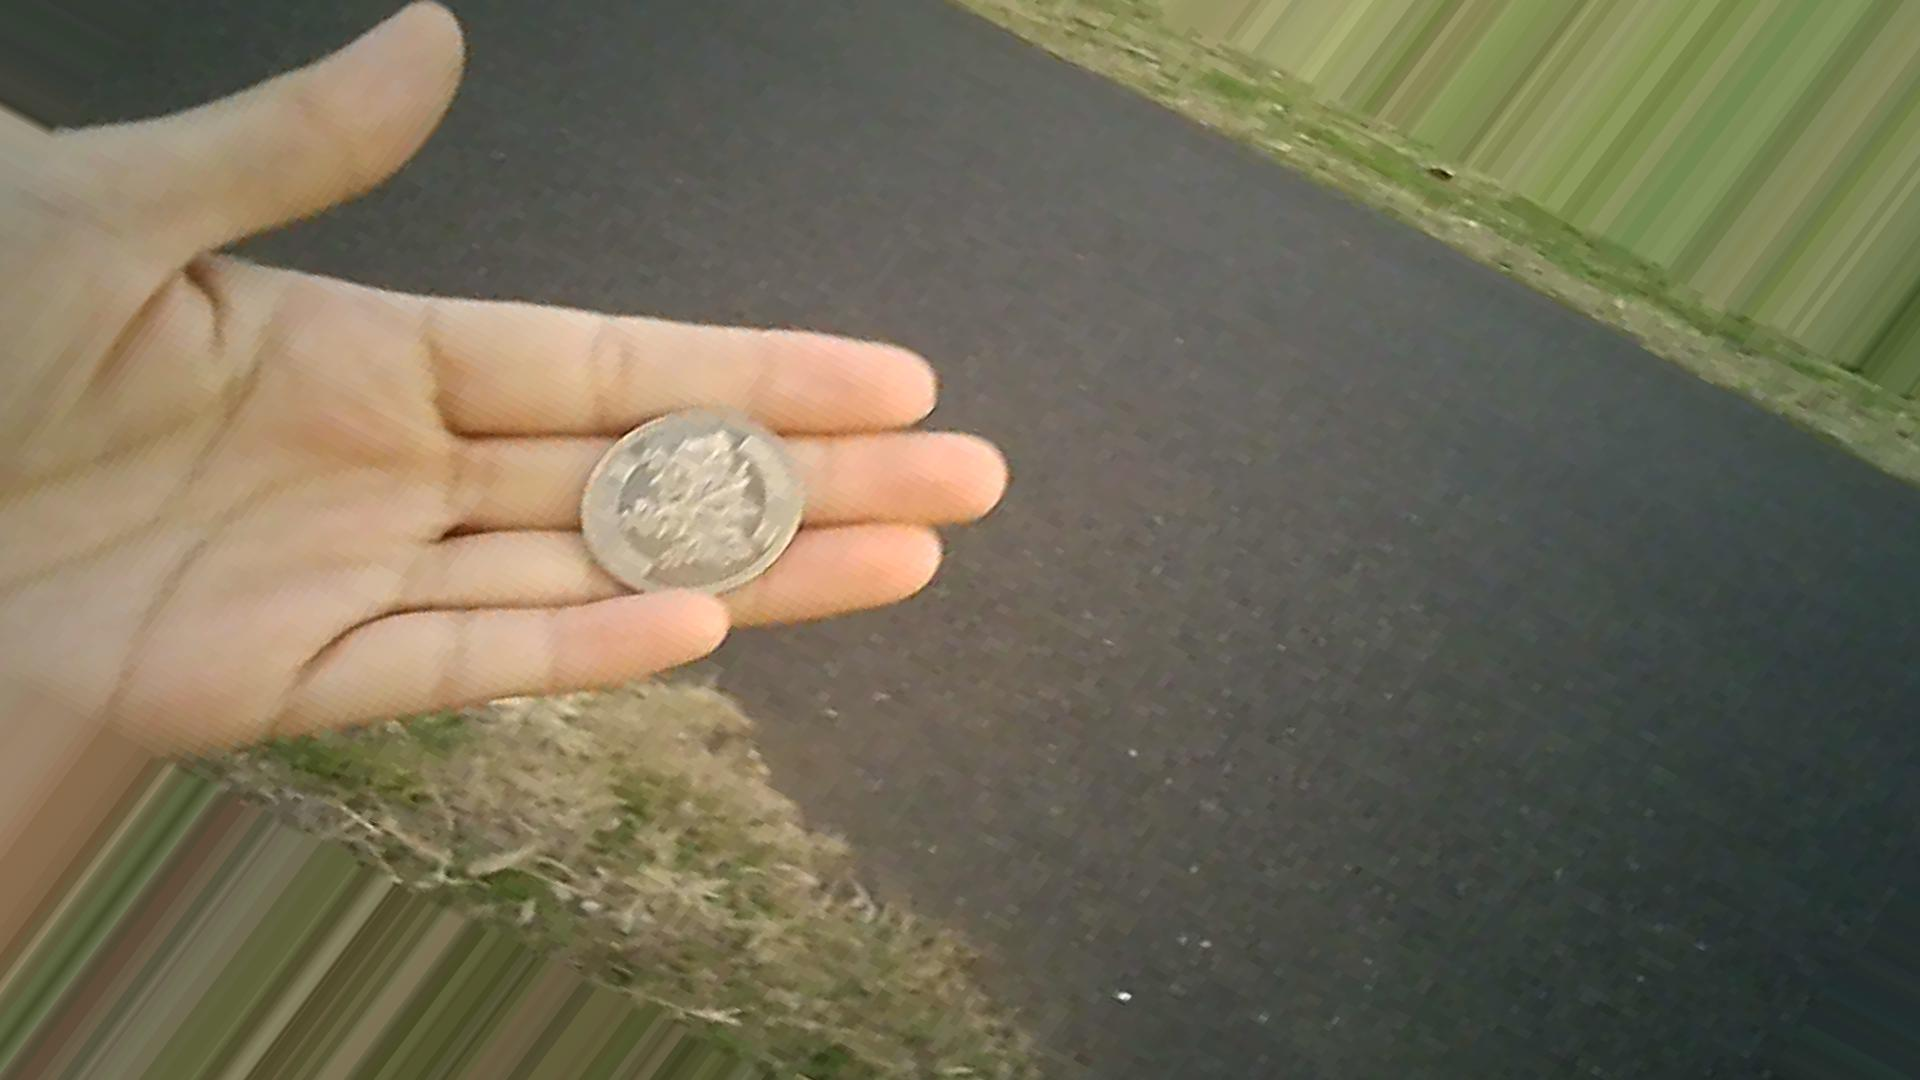500 Yen: (562, 410, 815, 597)
